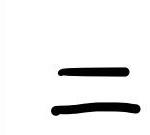eqv: (48, 65, 144, 117)
